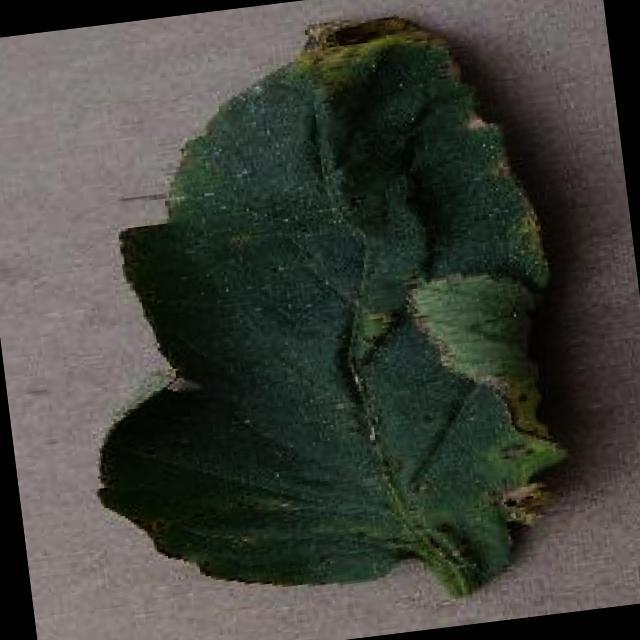Tomato bacterial spot leaf: (30, 0, 598, 619)
